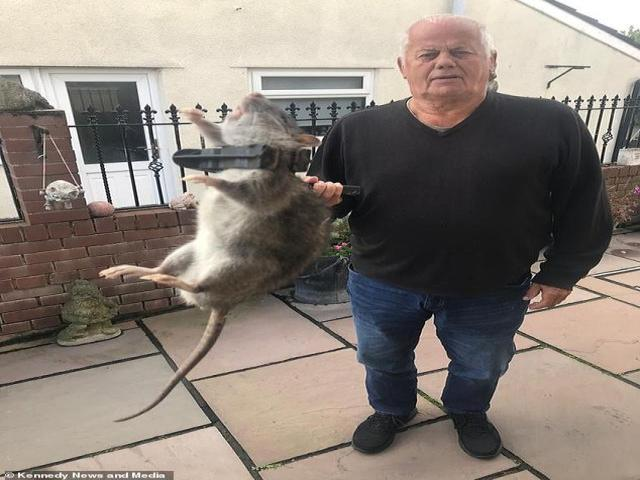Tikus: (93, 91, 318, 317)
